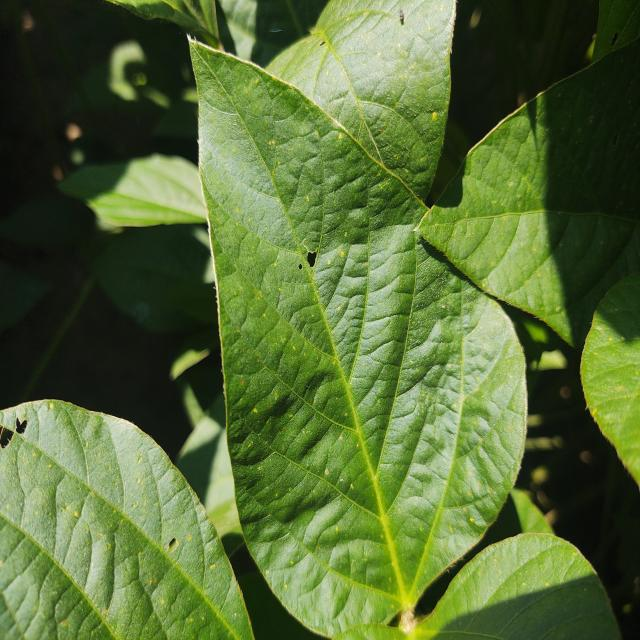downey_mildew: (0, 0, 640, 640), (394, 307, 514, 618), (244, 381, 399, 620), (200, 41, 314, 276), (310, 16, 425, 217), (238, 322, 366, 491), (360, 231, 426, 542), (106, 492, 243, 640), (533, 35, 640, 221), (1, 504, 126, 640), (351, 426, 423, 624), (301, 332, 396, 480), (1, 424, 99, 559), (224, 280, 320, 409), (280, 80, 343, 274), (256, 538, 372, 634), (455, 109, 550, 222), (424, 203, 531, 301), (278, 453, 386, 543), (417, 477, 496, 595), (191, 41, 273, 148), (100, 416, 162, 537), (446, 416, 521, 512), (340, 207, 374, 392), (168, 566, 247, 640), (486, 216, 557, 291), (450, 293, 472, 519), (158, 474, 208, 573), (486, 584, 571, 639), (442, 206, 635, 229), (77, 413, 125, 505), (33, 405, 88, 485), (50, 467, 91, 573), (586, 337, 639, 417), (257, 76, 281, 240), (228, 182, 302, 234), (312, 560, 396, 604), (349, 99, 417, 153), (322, 142, 373, 209), (417, 210, 479, 264), (94, 198, 201, 229), (0, 524, 45, 592), (297, 396, 362, 438), (83, 532, 117, 611), (201, 96, 259, 132)
